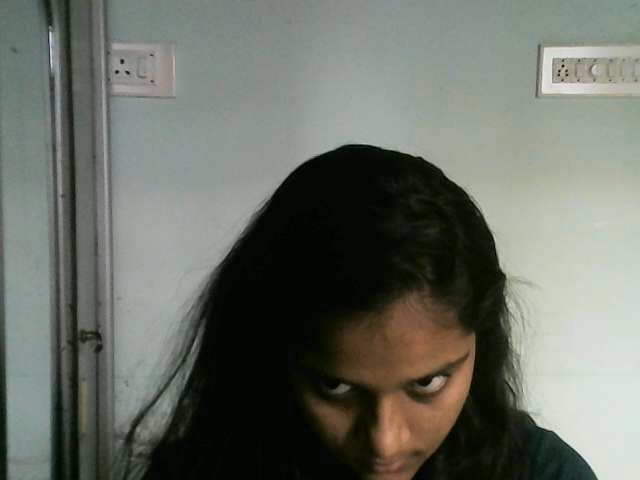face: (285, 289, 475, 480)
